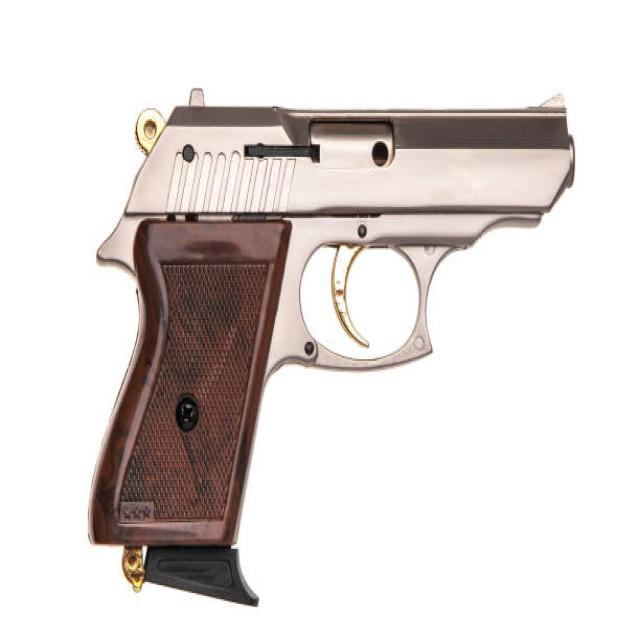pistol: (84, 77, 588, 619)
